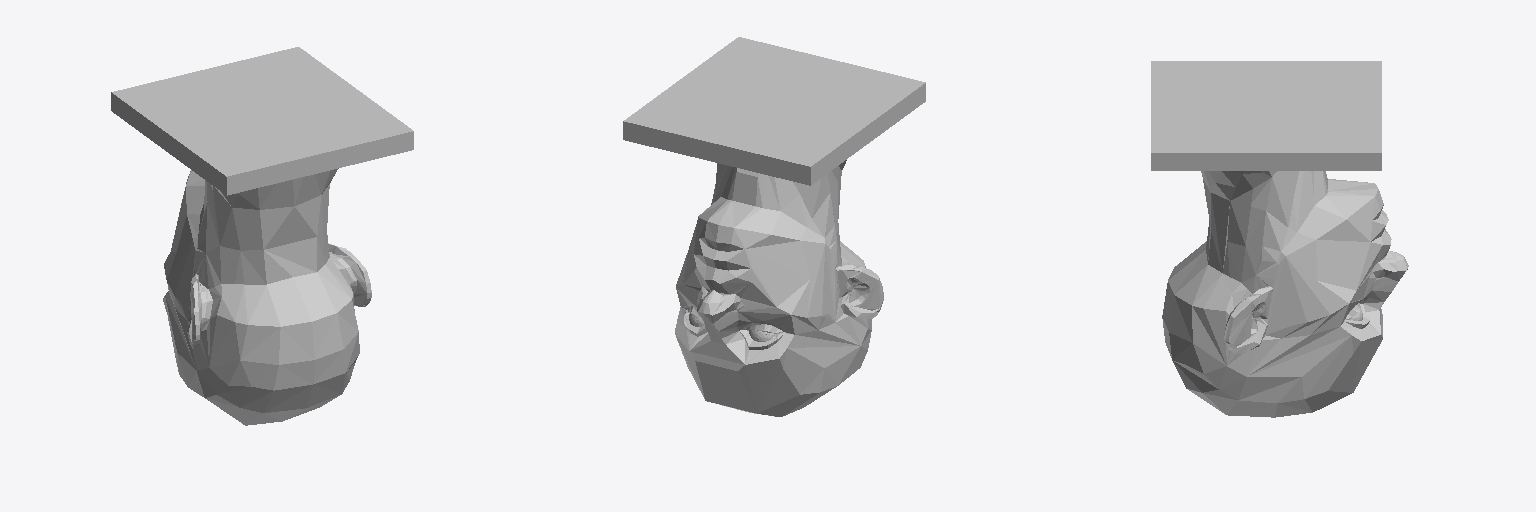
Rendered from asaro-head4.obj.
3 renders of one model, left to right at view 1: azimuth 30°, elevation 25°; view 2: azimuth 150°, elevation 25°; view 3: azimuth 270°, elevation 25°, orthographic.
Visible parts, largest first — view 1: mesh0.dat; view 2: mesh0.dat; view 3: mesh0.dat.
Boxes of the visible parts, x1,y1,x2,y2 form: mesh0.dat: [111, 47, 413, 425]; mesh0.dat: [623, 37, 925, 416]; mesh0.dat: [1151, 61, 1408, 417].
Size of the model in its own units: 2.85 by 4.34 by 3.4.